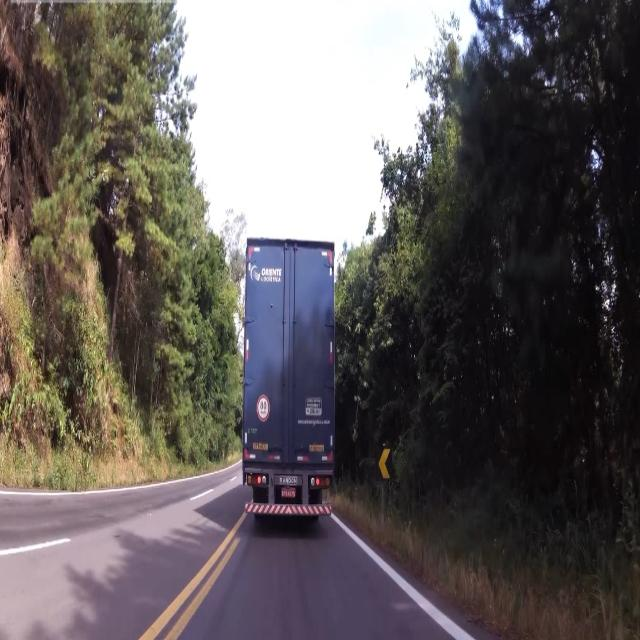de: (373, 442, 394, 488)
